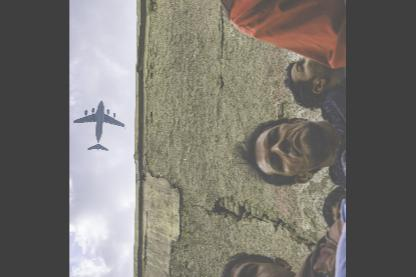C2: (72, 100, 124, 150)
